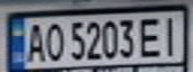0: (100, 17, 121, 60)
2: (84, 18, 103, 61)
3: (115, 16, 139, 60)
5: (66, 18, 87, 61)
A: (21, 20, 48, 63)
E: (136, 14, 166, 58)
I: (157, 14, 187, 56)
O: (42, 19, 66, 62)
